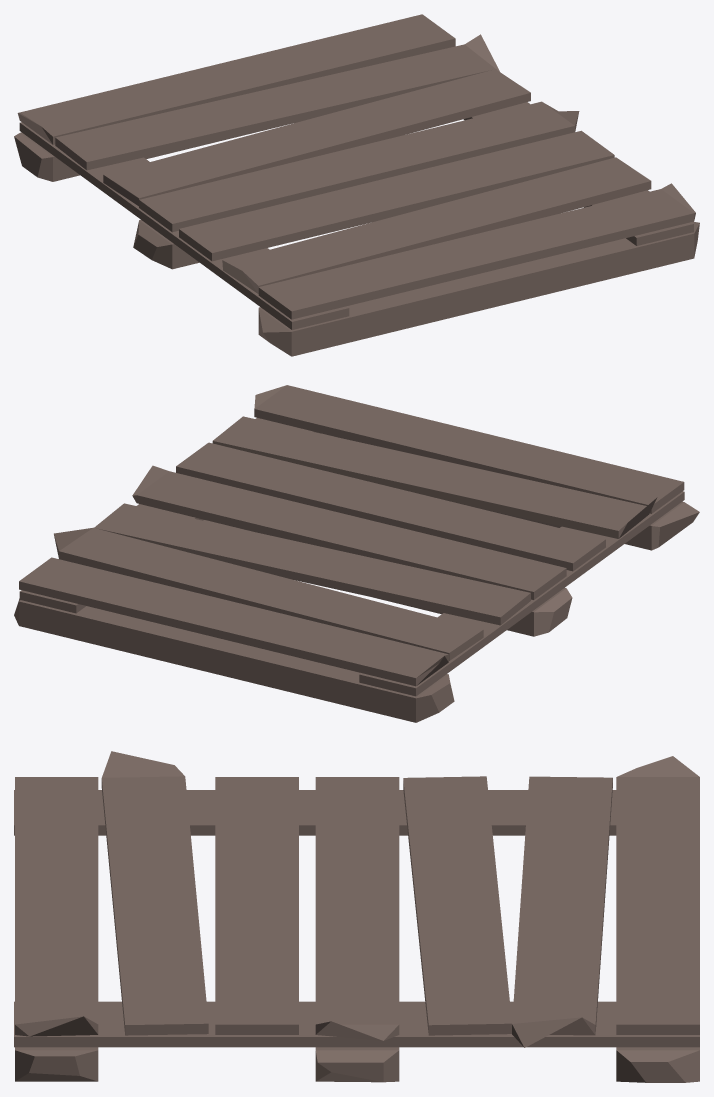
The model's file is Pallet.fbx.
The picture shows the model from 3 angles, top to bottom: view 1: azimuth 30°, elevation 25°; view 2: azimuth 150°, elevation 25°; view 3: azimuth 270°, elevation 25°; orthographic projection. The views are drawn at different scales.
Parts seen in each view (by area): view 1: Pallet; view 2: Pallet; view 3: Pallet.
Part boxes in pixels (x1=…): Pallet: x1=14, y1=14, x2=699, y2=356; Pallet: x1=14, y1=385, x2=699, y2=722; Pallet: x1=14, y1=751, x2=699, y2=1082.
Bounding box in the file's own units: 452 × 59.59 × 486.
